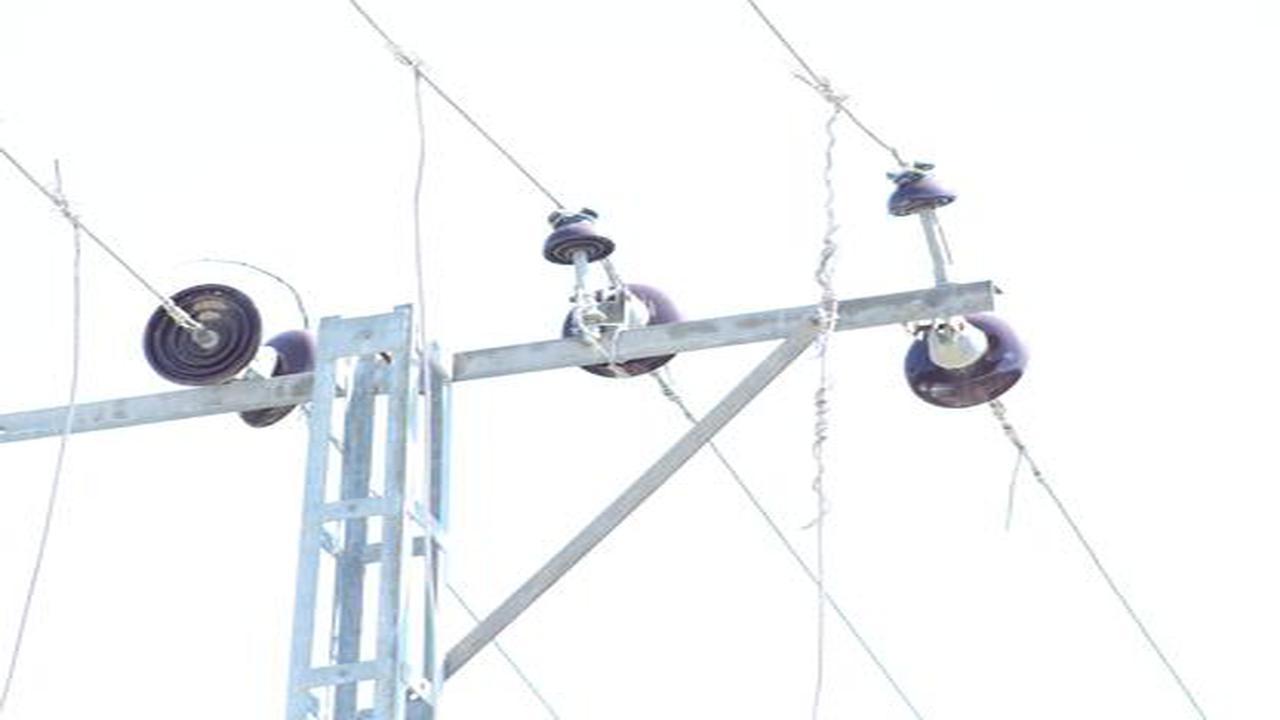insulator_disc: (897, 307, 1033, 417), (141, 280, 268, 389)
insulator_pin: (536, 202, 619, 270), (877, 154, 961, 220)
